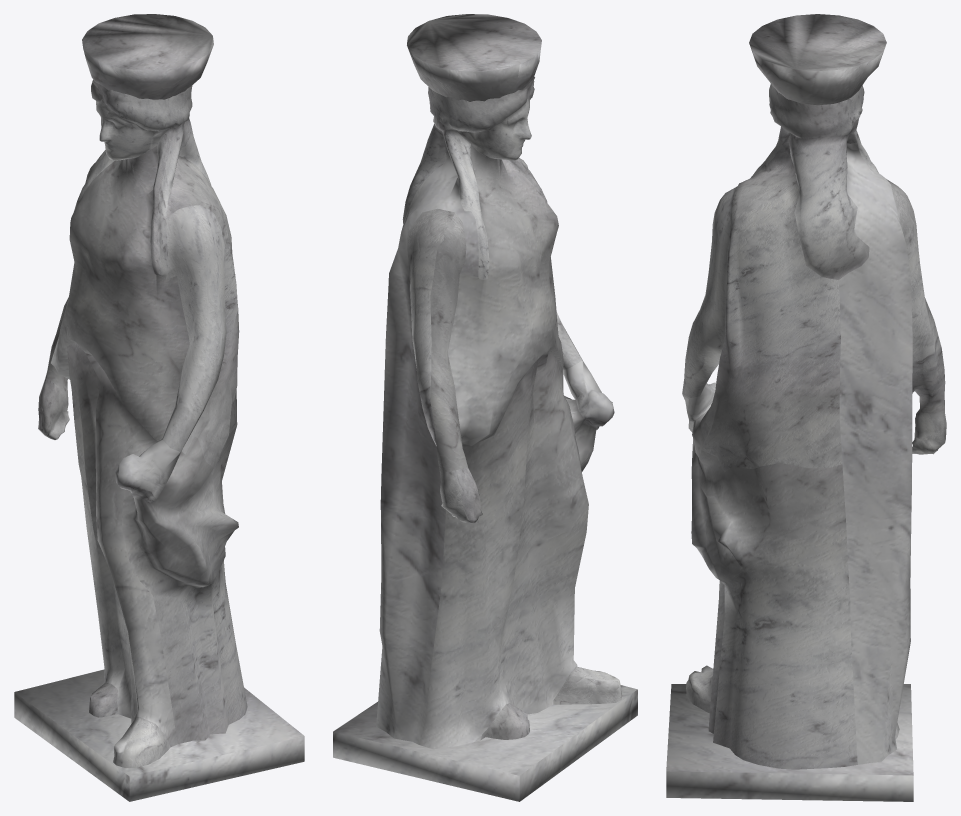
Rendered from Standing_Woman_-_Low_Poly.glb.
The picture shows the model from 3 angles, left to right: view 1: azimuth 30°, elevation 25°; view 2: azimuth 150°, elevation 25°; view 3: azimuth 270°, elevation 25°; orthographic projection. The views are drawn at different scales.
Visible parts, largest first — view 1: Spouse_Material_0_0; view 2: Spouse_Material_0_0; view 3: Spouse_Material_0_0.
Boxes of the visible parts, x1,y1,x2,y2 form: Spouse_Material_0_0: (14,14,304,801); Spouse_Material_0_0: (333,14,637,801); Spouse_Material_0_0: (666,14,946,801).
Bounding box in the file's own units: 236 × 857 × 305.
1 material, 1 textured.
